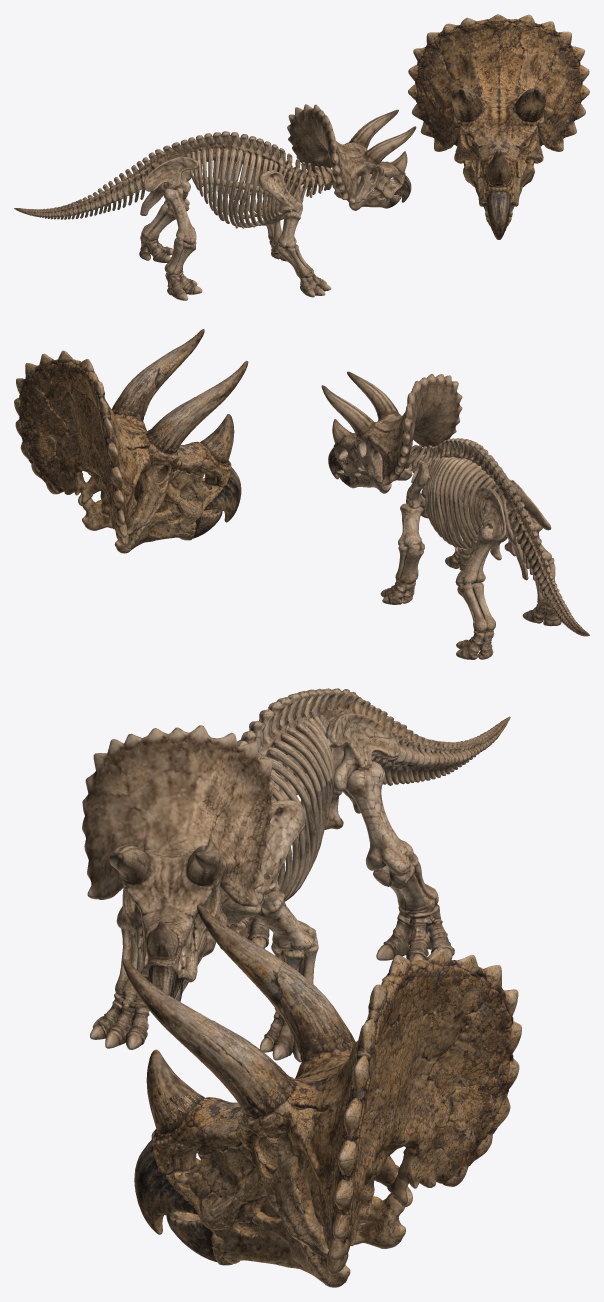
File: triceratops.glb
3 renders of one model, top to bottom at view 1: azimuth 30°, elevation 25°; view 2: azimuth 150°, elevation 25°; view 3: azimuth 270°, elevation 25°, orthographic. The views are drawn at different scales.
Parts seen in each view (by area): view 1: body, head; view 2: head, body; view 3: head, body.
Part boxes in pixels (<box>): body: <box>14,104,416,300</box>; head: <box>408,14,589,239</box>; head: <box>14,329,248,553</box>; body: <box>321,371,589,659</box>; head: <box>122,904,521,1287</box>; body: <box>82,688,510,1062</box>.
Bounding box in the file's own units: 2.91 × 0.9237 × 1.04.
2 materials, 2 textured.
